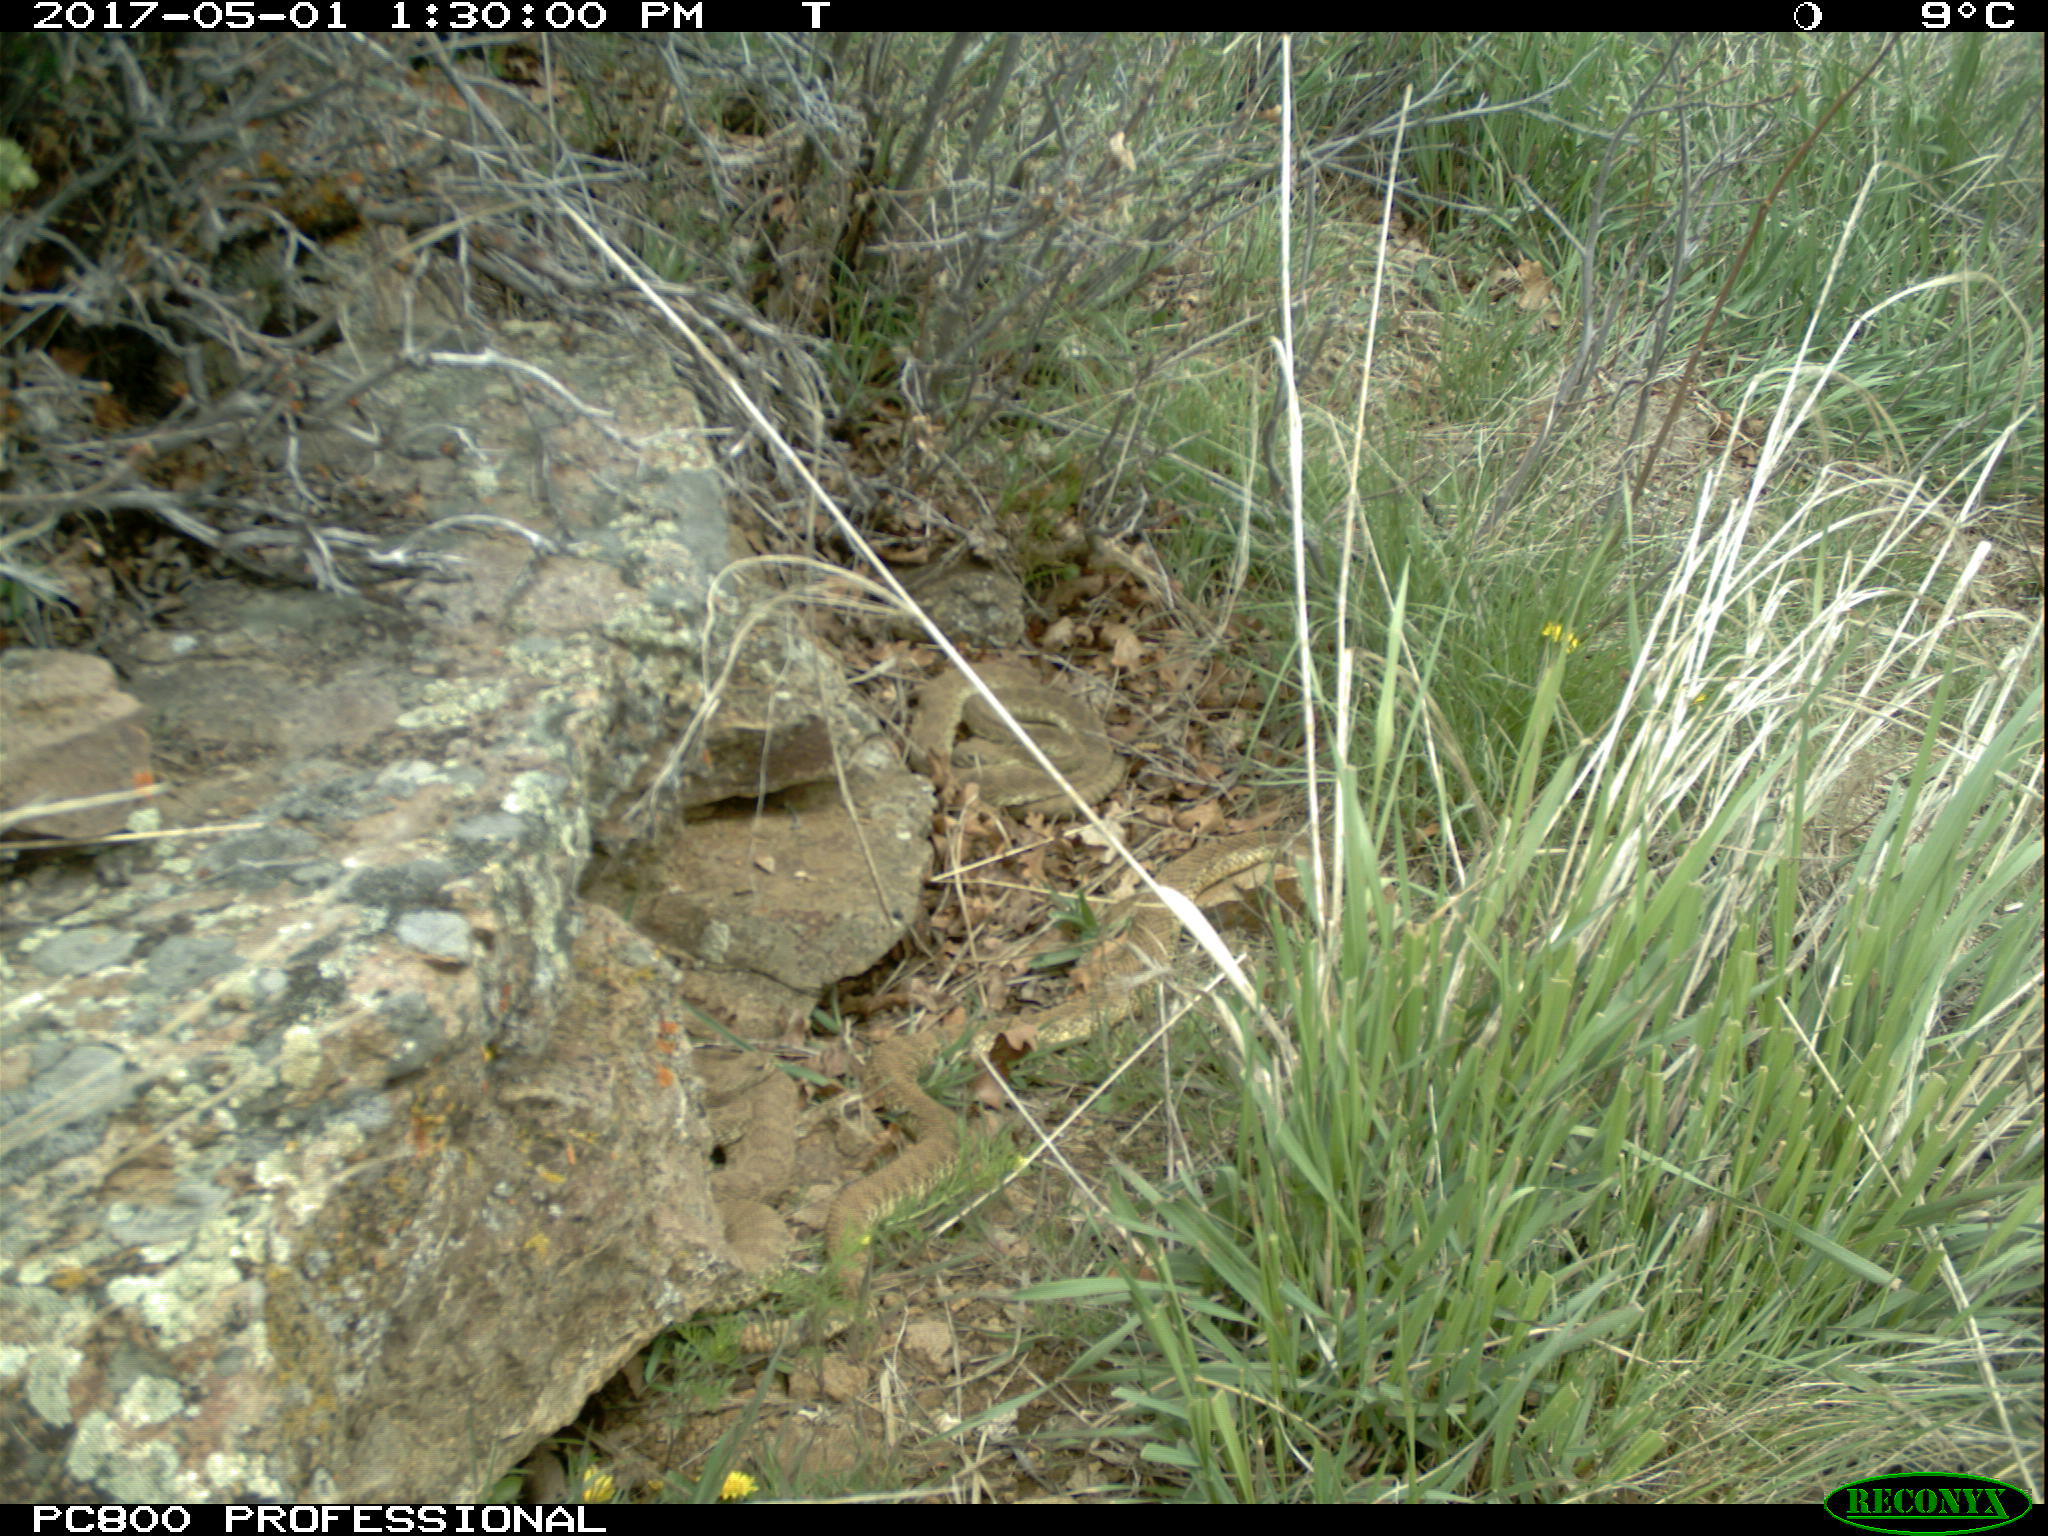snake: (710, 823, 1337, 1352), (901, 658, 1134, 828)
